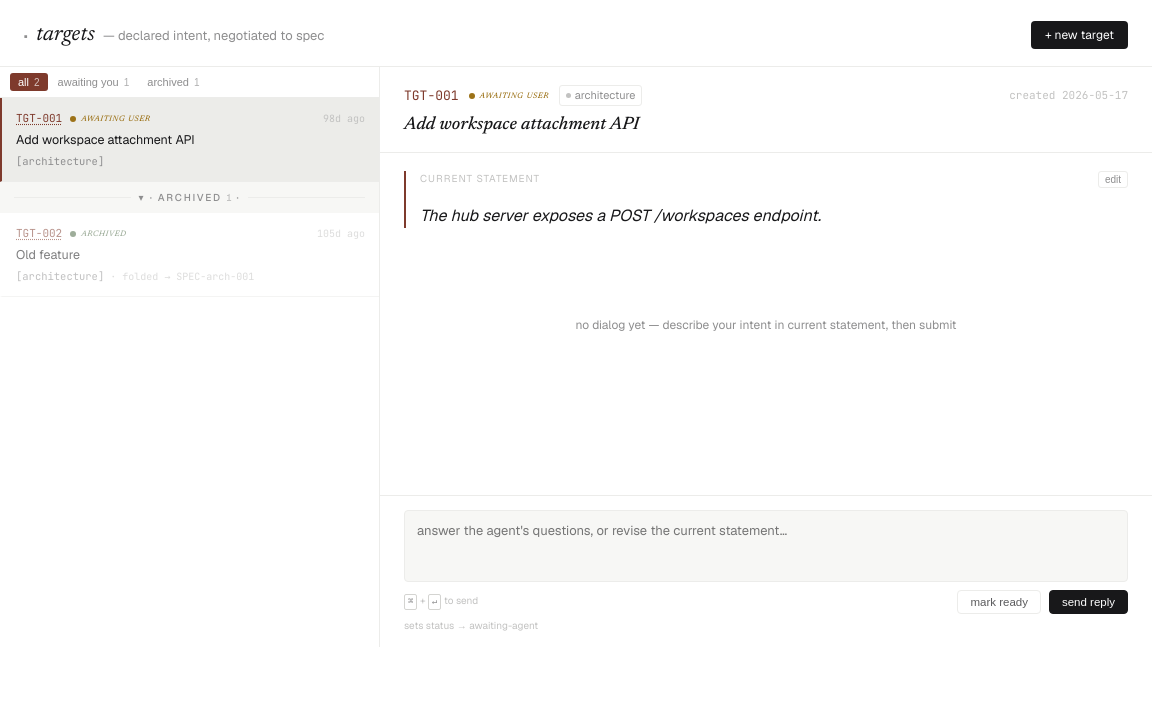
Test: Targets archived divider collapsible (WI-scr-006) › clicking divider twice shows archived rows again
Click the element with class "artifact-list-divider": (190, 198) [0,182,379,213]
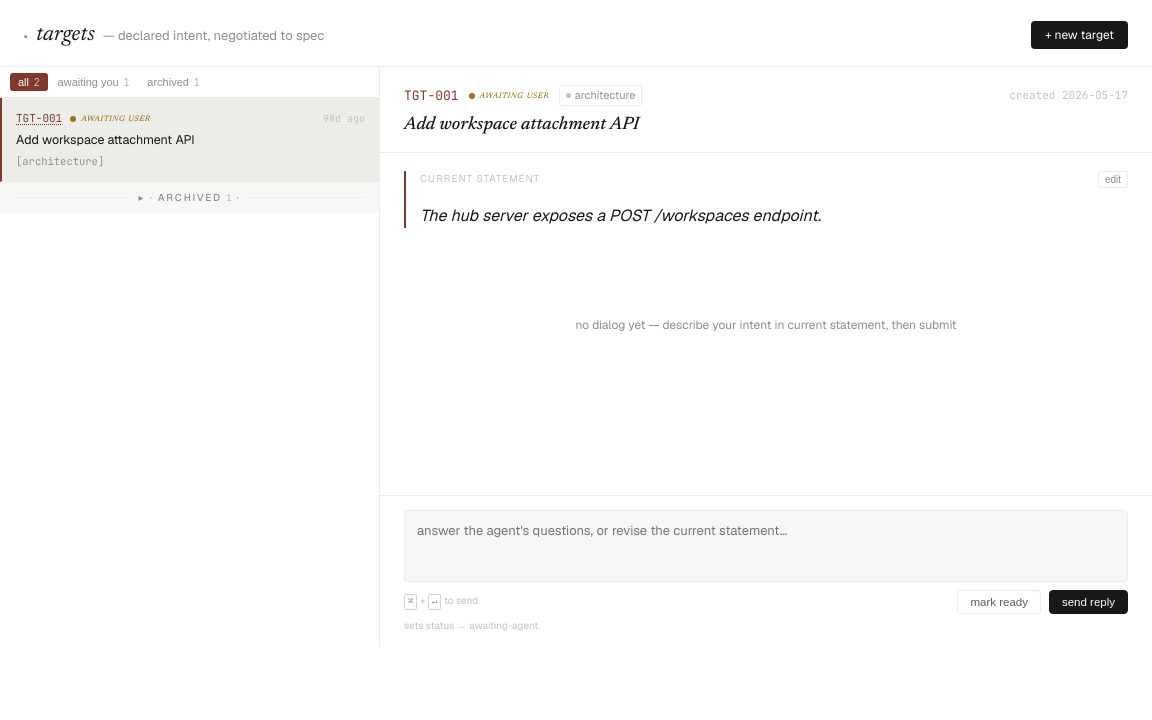
Click the element with class "artifact-list-divider": (190, 198) [0,182,379,213]
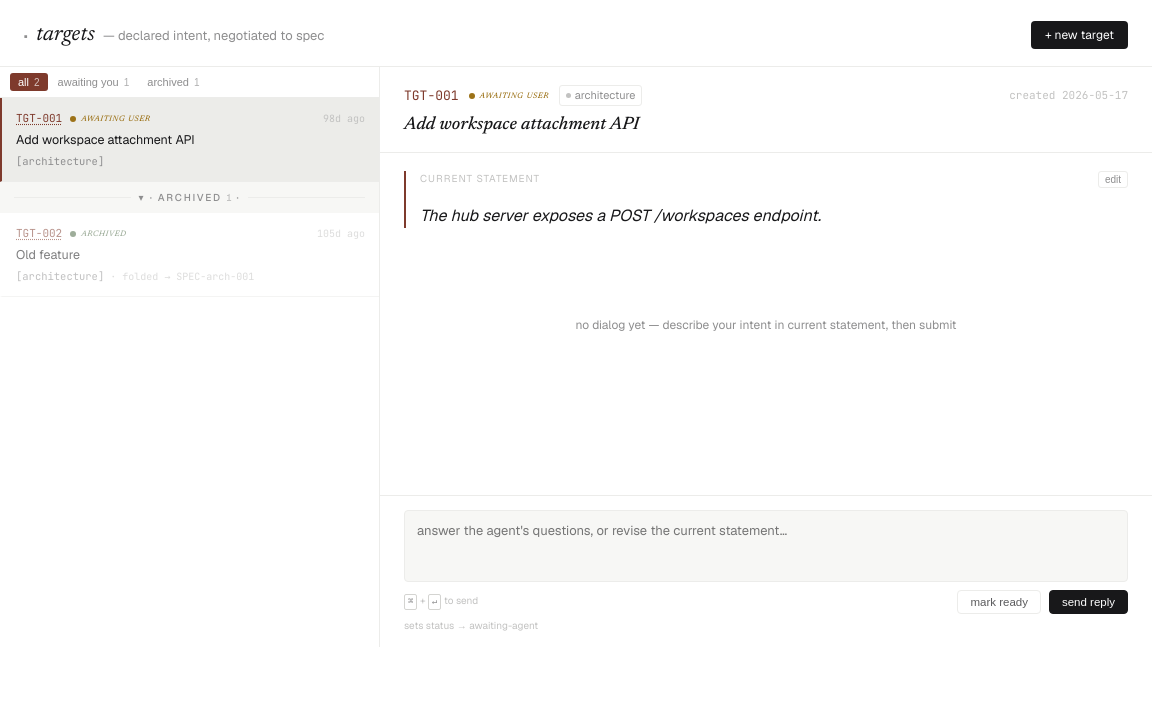
expect the number of elements with class "artifact-list-archived-row" is 1: met, box [0,213,379,297]
